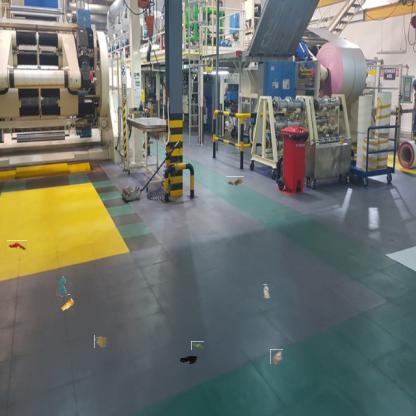dirty: (177, 353, 199, 367), (58, 294, 74, 310), (7, 240, 27, 251), (226, 176, 244, 187), (270, 349, 283, 364), (191, 341, 204, 350), (262, 284, 270, 298)
liquid: (56, 276, 68, 296), (94, 334, 107, 348)
